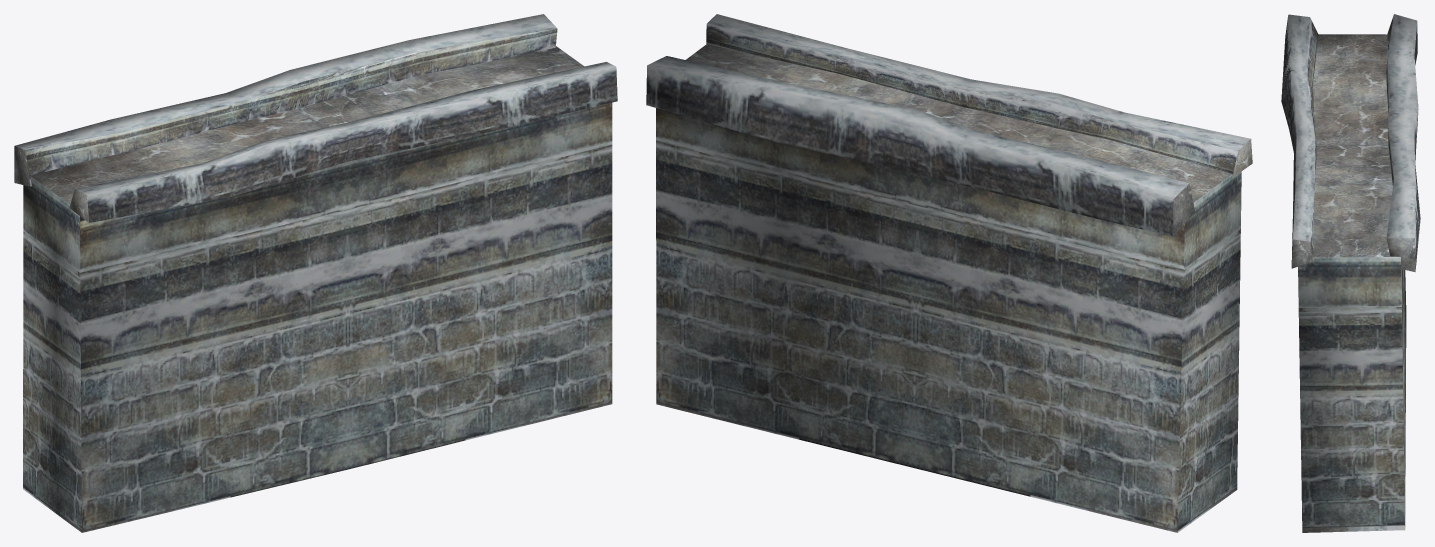
Rendered from S_Build_Snowland178.FBX.
3 views of the same model, side by side, from view 1: azimuth 30°, elevation 25°; view 2: azimuth 150°, elevation 25°; view 3: azimuth 270°, elevation 25° (orthographic). The views are drawn at different scales.
Parts seen in each view (by area): view 1: S_Build_Snowland178; view 2: S_Build_Snowland178; view 3: S_Build_Snowland178.
Part boxes in pixels (x1=…): S_Build_Snowland178: x1=14, y1=14, x2=617, y2=532; S_Build_Snowland178: x1=646, y1=14, x2=1252, y2=532; S_Build_Snowland178: x1=1281, y1=14, x2=1420, y2=532.
Size of the model in its own units: 831 by 219 by 521.
